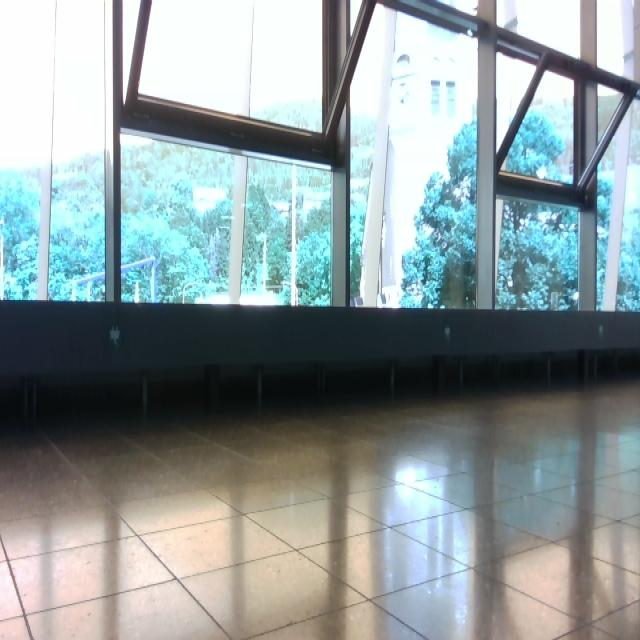light bulb: (192, 186, 227, 216), (395, 467, 417, 503), (265, 279, 284, 295)
tiled floor: (1, 379, 639, 639)
window: (1, 1, 640, 316)
